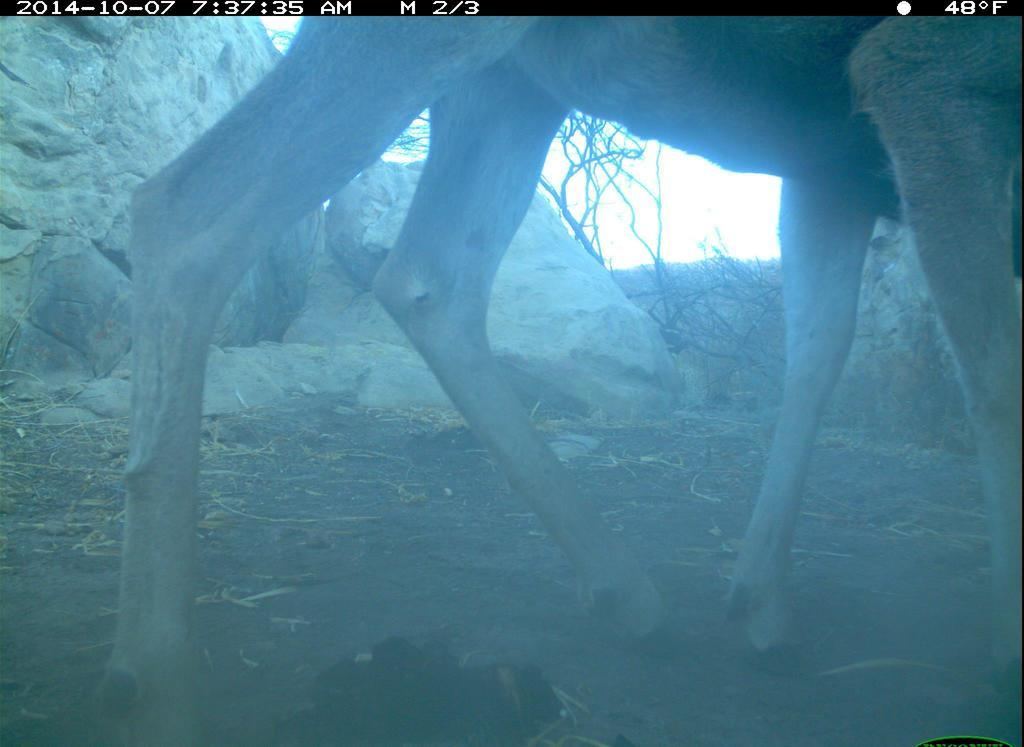deer: (88, 27, 1021, 743)
